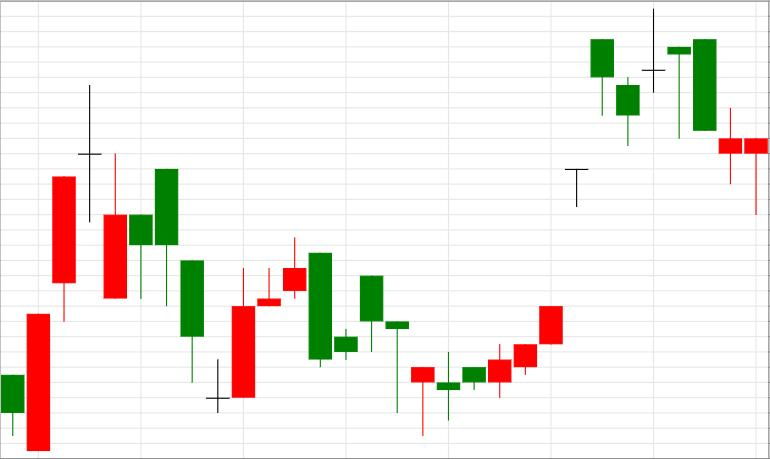hanging_man_fall: (489, 38, 614, 399)
morning_star_rise: (78, 84, 254, 412)
shooting_star_fall: (207, 237, 306, 412)
